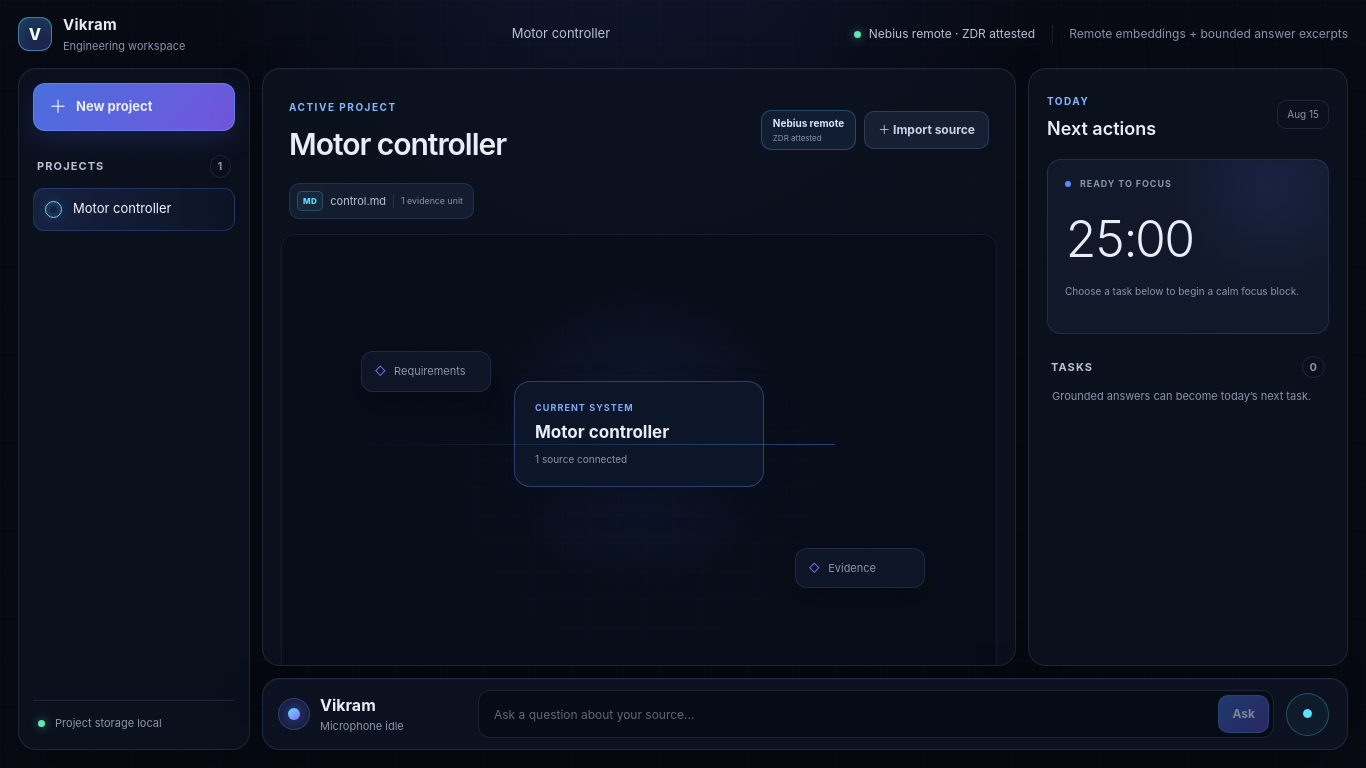
reviewable vertical slice UI › labels only verified remote answers with the remote verification badge
Expected: the heading "Motor controller" is shown, [289,122,506,167]
Type "What is phase margin?" into the field named "Ask about the selected project" at (847, 714), box [483,695,1212,733]
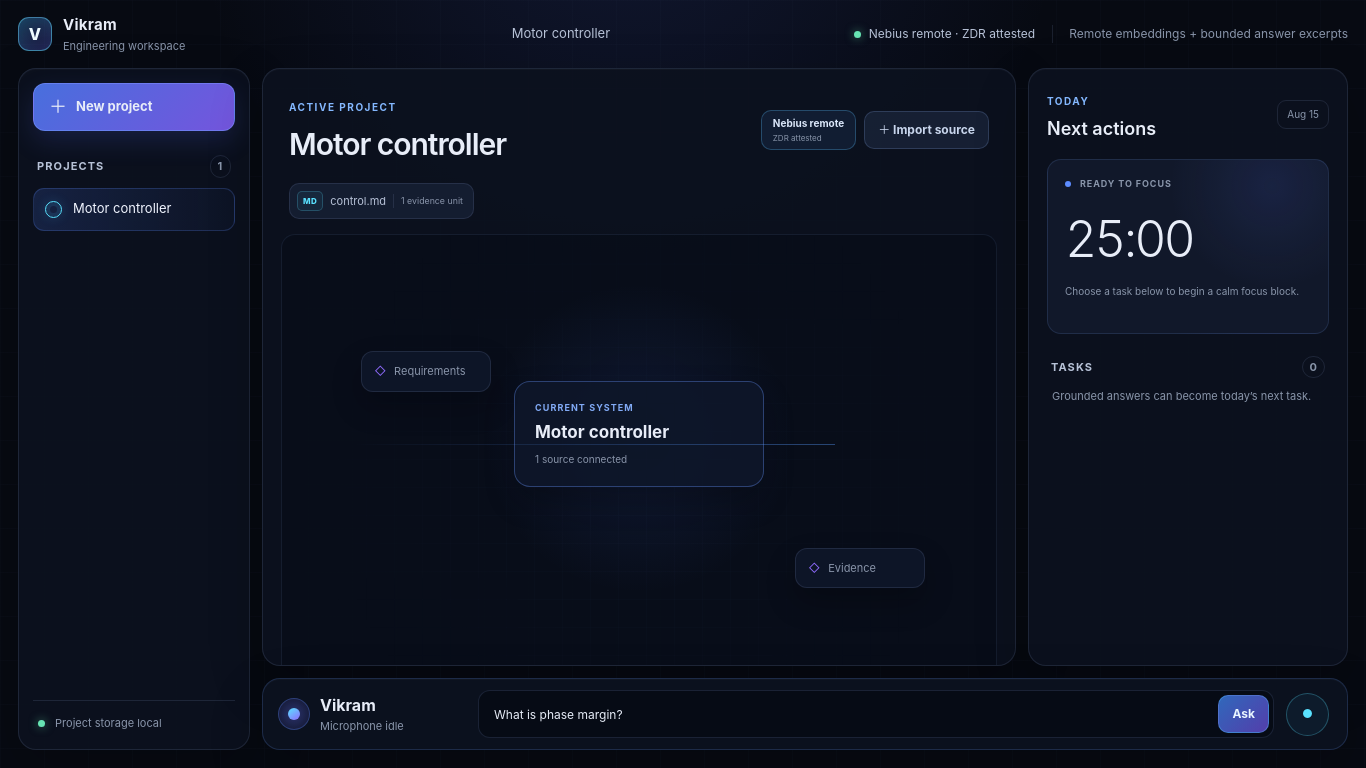
Click the button "Ask" at (1244, 714), box [1218,695,1269,733]
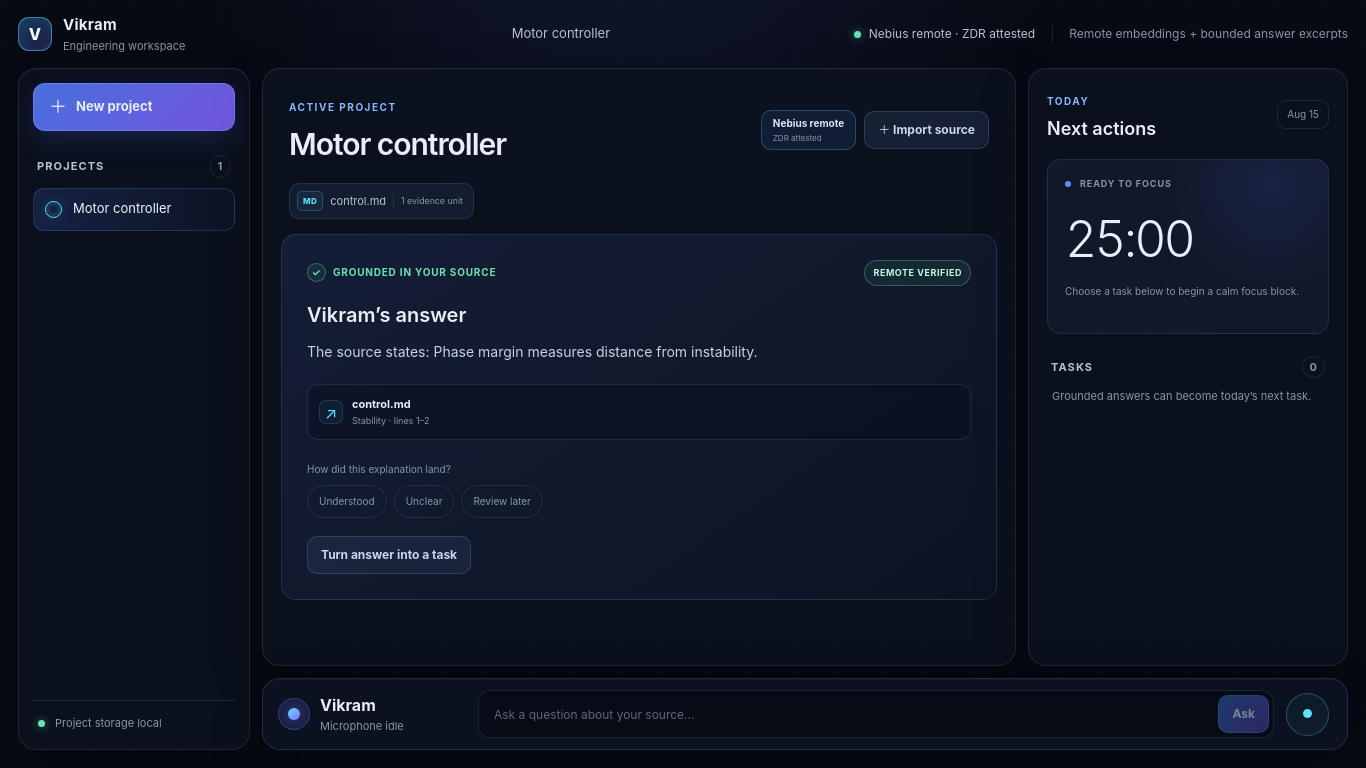
Now the text "Remote verified" is shown, box [864,260,971,286]
Now the text "Grounded in your source" is shown, box [333,265,496,280]
